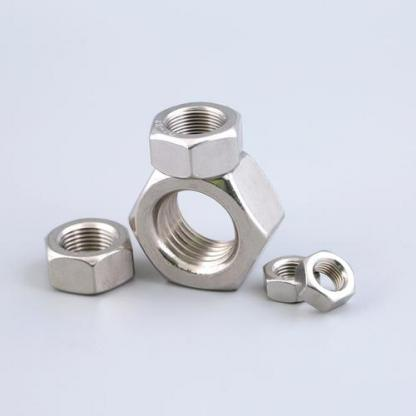FOD: (126, 148, 284, 300), (146, 96, 246, 182), (44, 216, 136, 296), (295, 251, 356, 313), (259, 256, 319, 304)
